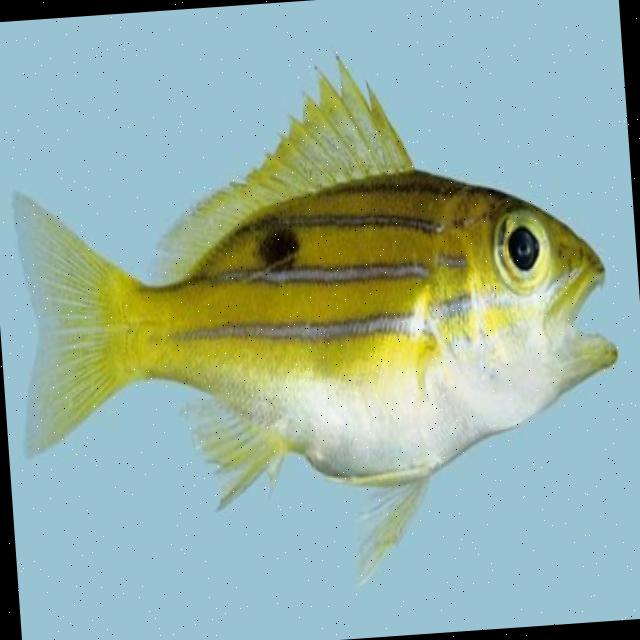ikan: (0, 32, 633, 609)
